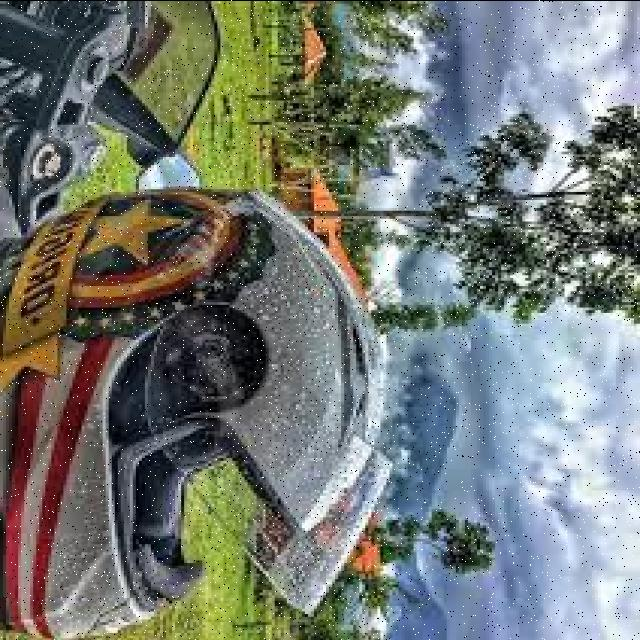Helmet: (3, 190, 392, 637)
